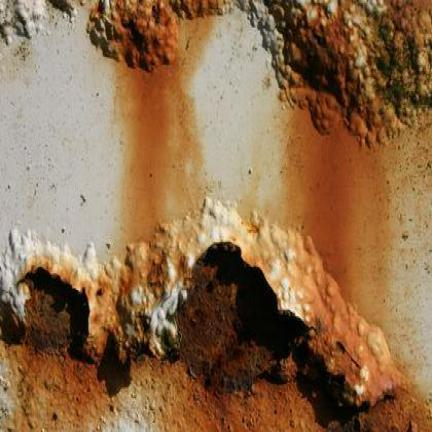besi_tidak_karat: (0, 2, 119, 248)
karat: (0, 246, 431, 431), (237, 0, 431, 146), (112, 15, 222, 266), (279, 110, 383, 335)
